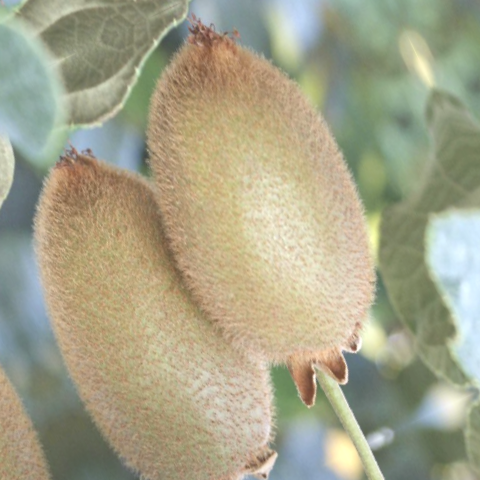kiwi: (84, 0, 438, 440), (0, 111, 327, 480)
